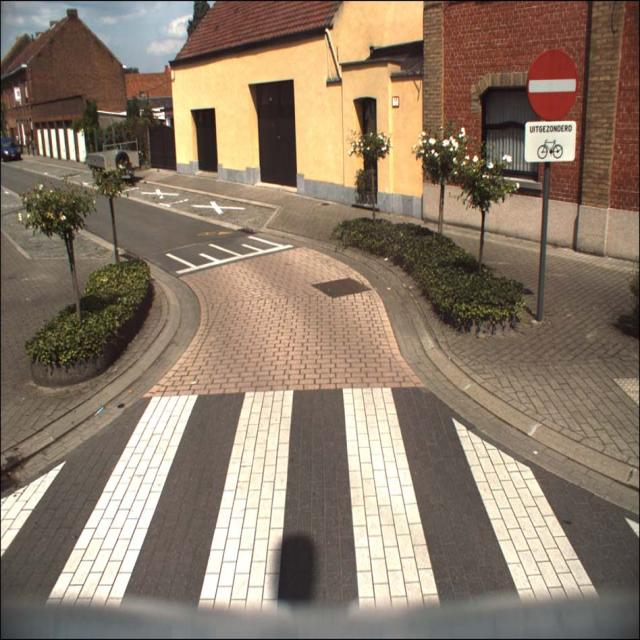girisyok: (526, 49, 578, 120)
